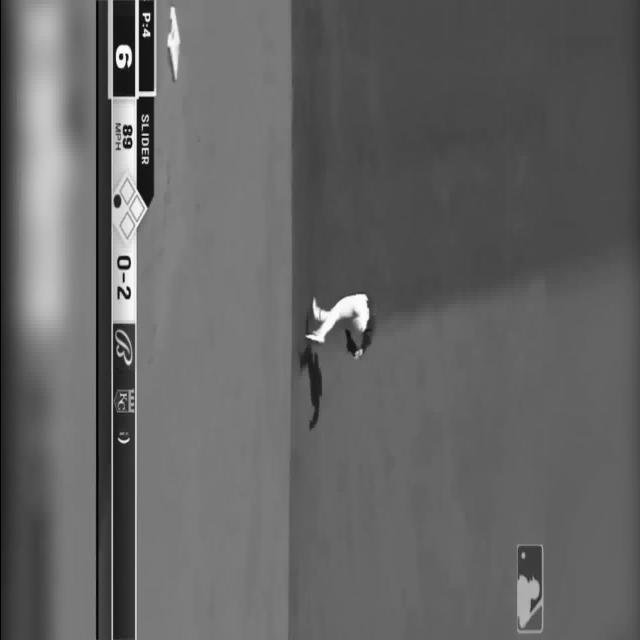shoe: (304, 327, 324, 343), (311, 296, 319, 320)
